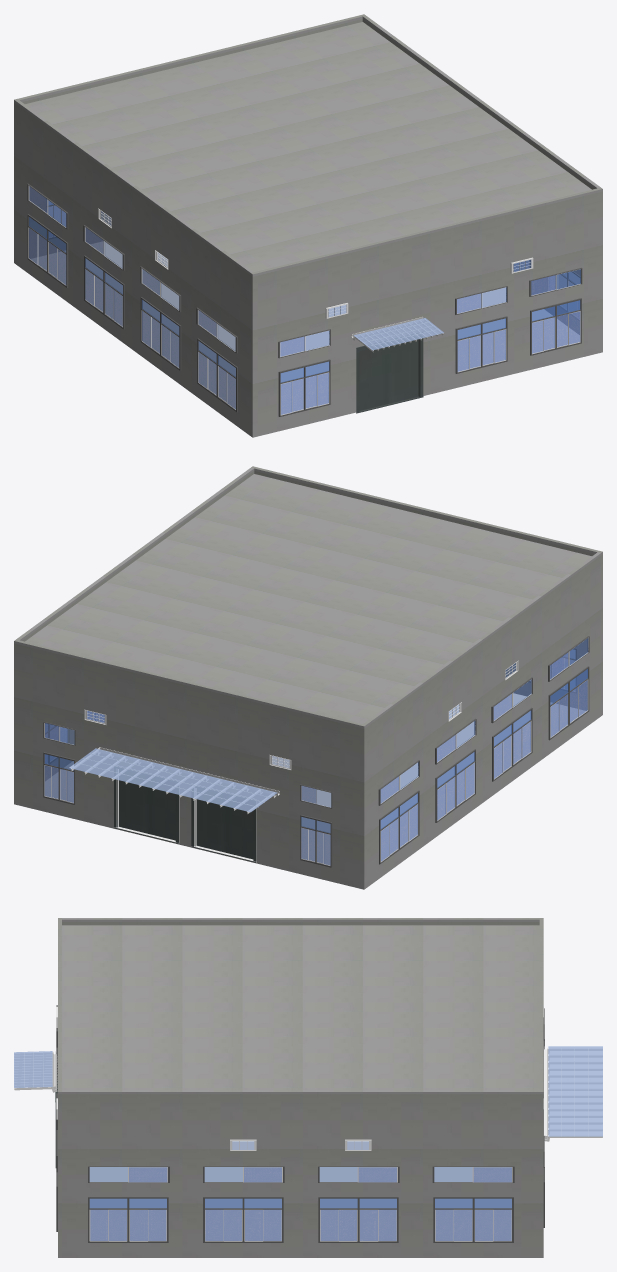
The model's file is JDCJB.dae.
The picture shows the model from 3 angles, top to bottom: view 1: azimuth 30°, elevation 25°; view 2: azimuth 150°, elevation 25°; view 3: azimuth 270°, elevation 25°; orthographic projection.
Visible parts, largest first — view 1: SketchUp (×3), Door_Glass_Double_Header_6-0x6-8, group_5, group_23 (×2); view 2: SketchUp (×3), Door_Glass_Double_6-0x6-8 (×2), group_5, group_3; view 3: SketchUp (×3), Window (×16), group_5 (×2), Window_1 (×8), group_23 (×4).
Part boxes in pixels (x1,y1,x2,y2): SketchUp (×3): (14,14,602,437); Door_Glass_Double_Header_6-0x6-8: (356,332,423,413); group_5: (353,318,444,350); group_23 (×2): (278,316,507,416); SketchUp (×3): (14,466,602,889); Door_Glass_Double_6-0x6-8 (×2): (119,769,253,859); group_5: (69,748,276,812); group_3: (98,747,279,795); SketchUp (×3): (58,918,543,1257); Window (×16): (90,1209,511,1240); group_5 (×2): (14,1046,602,1136); Window_1 (×8): (89,1167,511,1182); group_23 (×4): (88,1197,513,1242).
Bounding box in the file's own units: 813 × 1156 × 360.
12 materials, 3 textured.
